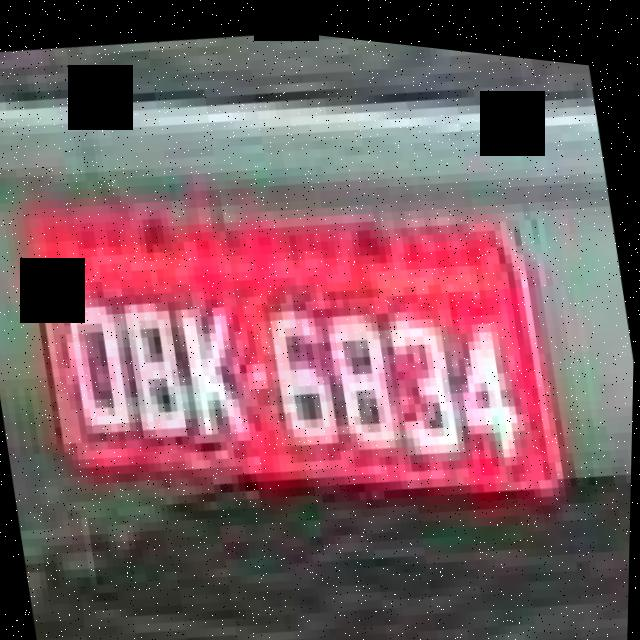3: (383, 285, 475, 475)
4: (444, 286, 537, 468)
6: (262, 290, 348, 453)
8: (319, 286, 414, 466)
B: (118, 283, 201, 453)
K: (167, 280, 258, 453)
O: (58, 282, 144, 446)
